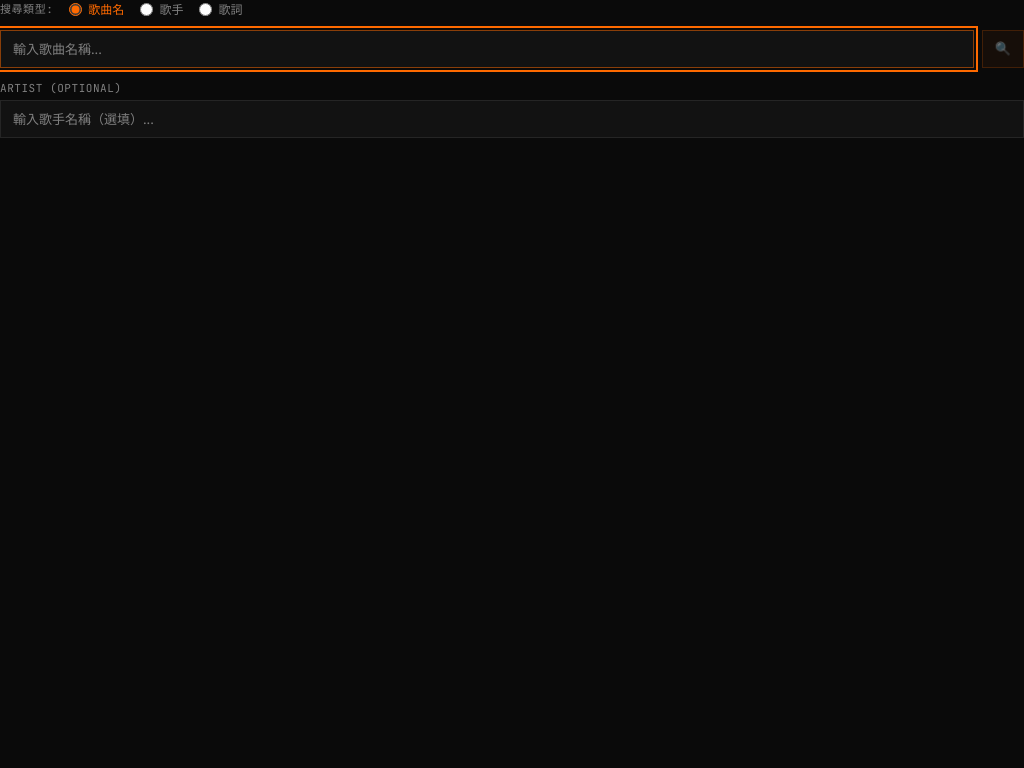
LyricsSearchPanel › shows error when import fails
This screenshot has width=1024, height=768.
Type "Test Song" into the field with placeholder "輸入歌曲名稱...".
click(487, 49); type("Test Song")  # box x1=0 y1=30 x2=974 y2=68
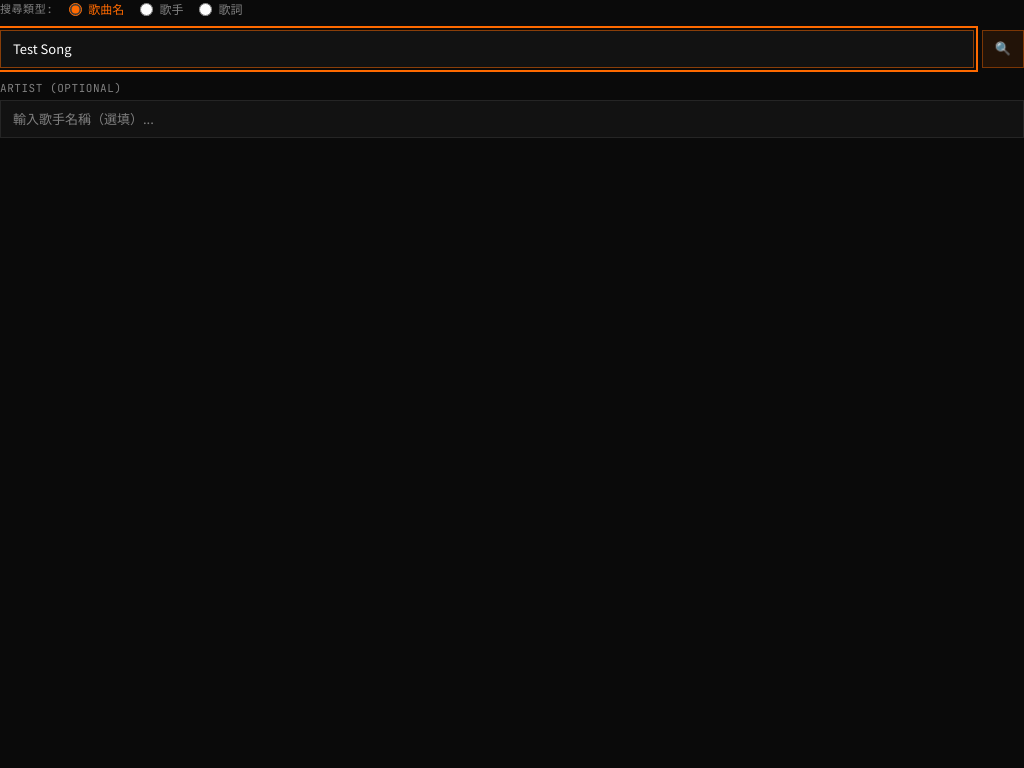
Press Enter in the field with placeholder "輸入歌曲名稱...", box x1=0 y1=30 x2=974 y2=68
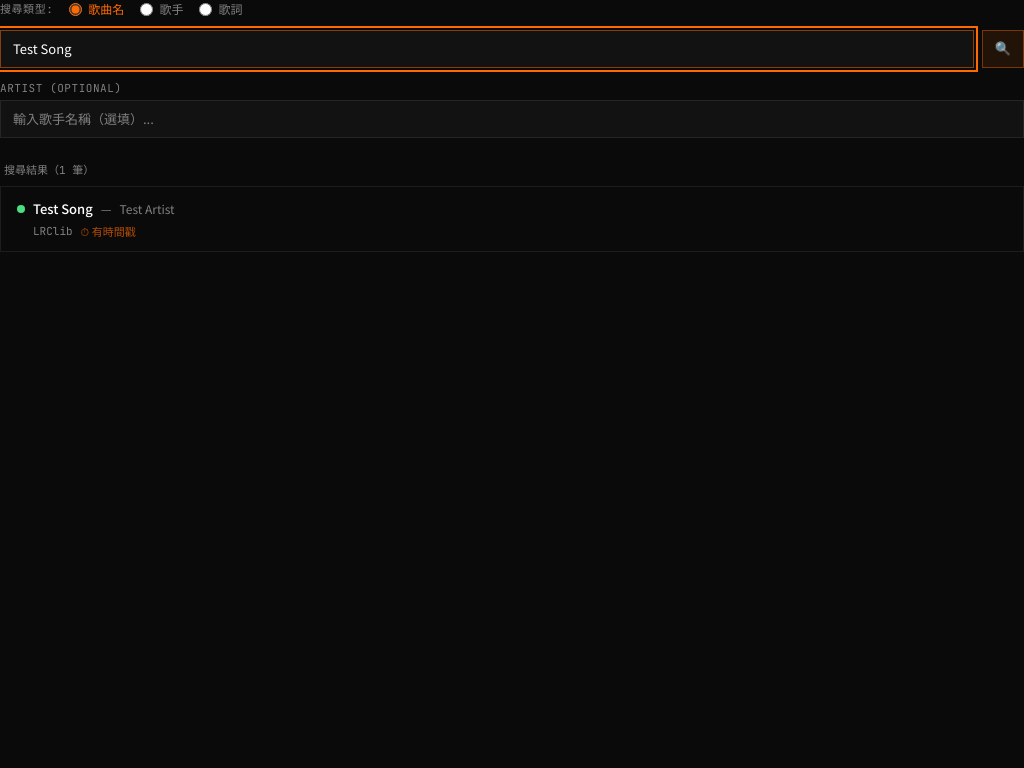
Result: the text "Test Song" is shown at x1=33 y1=199 x2=93 y2=218
Click the button "Test Song — Test Artist LRClib ⏱ 有時間戳".
click(63, 208)  # box x1=0 y1=186 x2=1023 y2=252
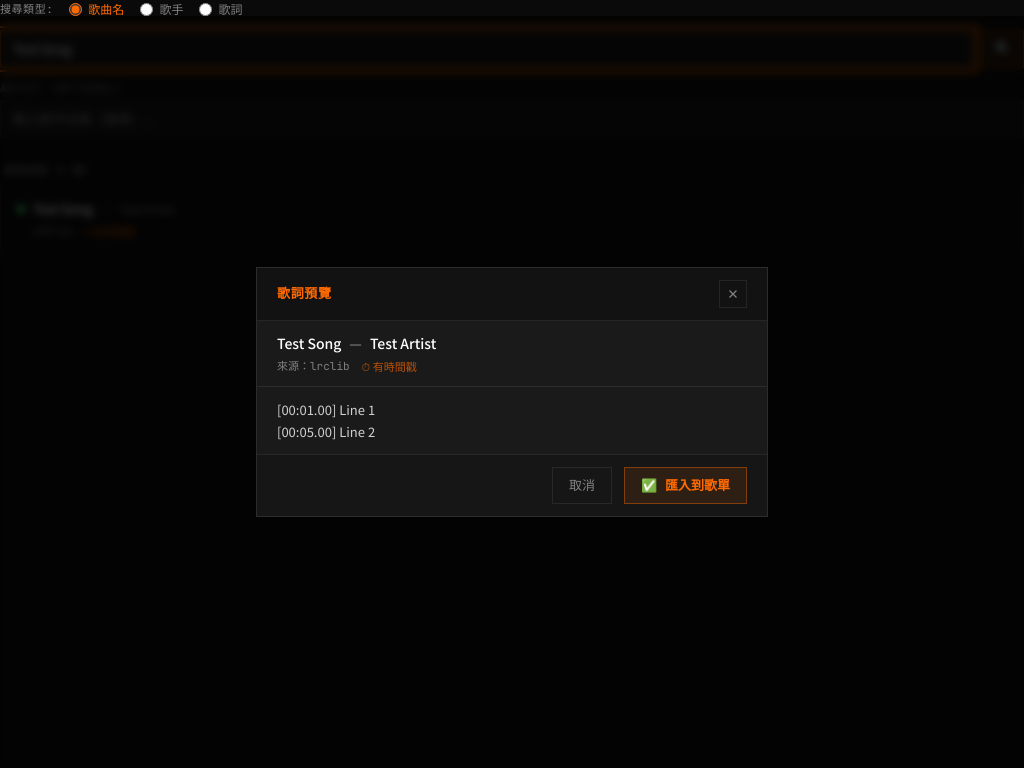
Result: the button "✅ 匯入到歌單" is shown
Click the button "✅ 匯入到歌單".
click(686, 485)  # box x1=624 y1=467 x2=747 y2=504
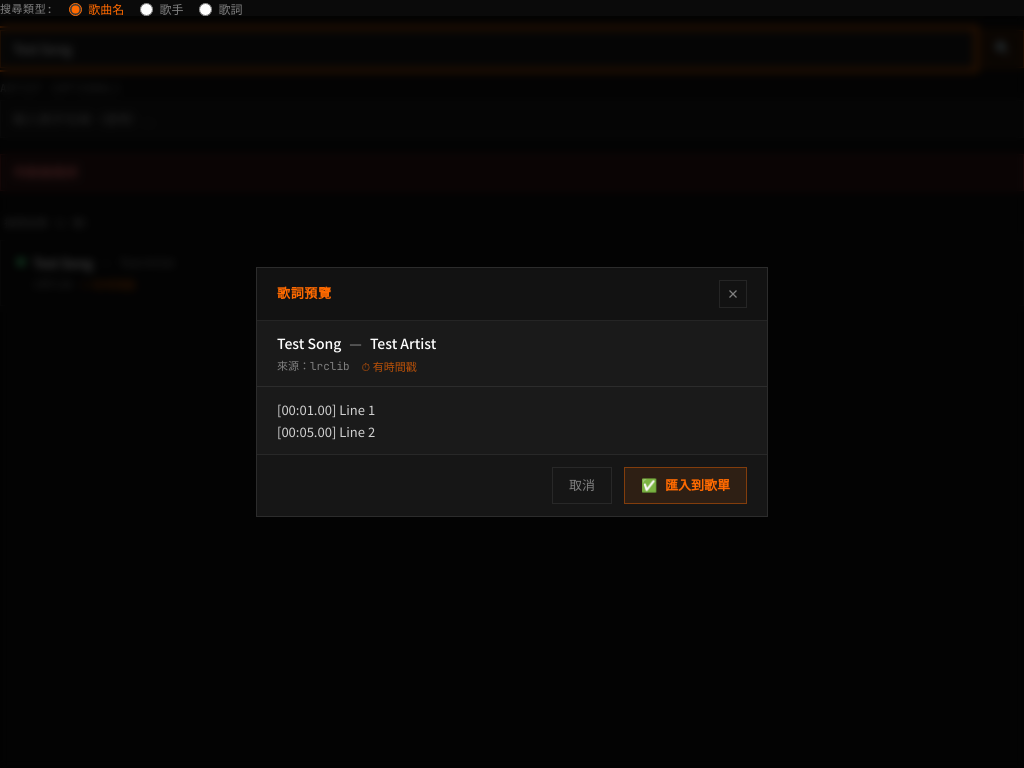
Result: the text "伺服器錯誤" is shown at x1=0 y1=154 x2=1023 y2=191
